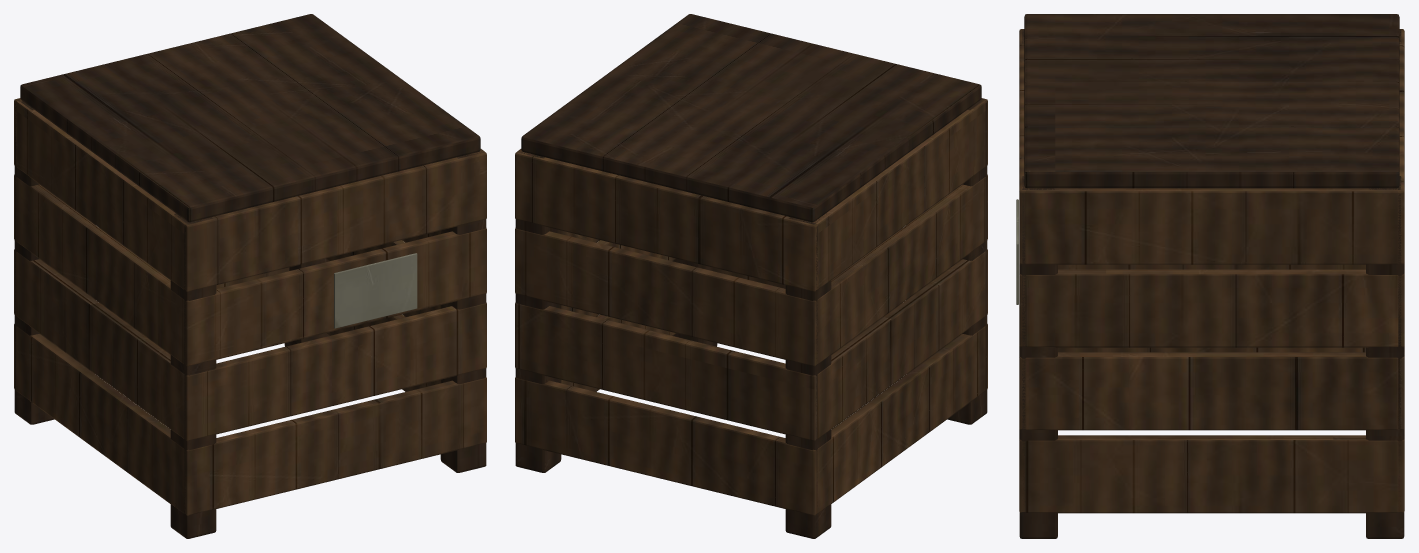
File: crate_wood.glb
3 renders of one model, left to right at view 1: azimuth 30°, elevation 25°; view 2: azimuth 150°, elevation 25°; view 3: azimuth 270°, elevation 25°, orthographic. The views are drawn at different scales.
Parts seen in each view (by area): view 1: body; view 2: body; view 3: body.
Boxes of the visible parts, x1,y1,x2,y2 form: body: (14, 14, 486, 538); body: (515, 14, 987, 538); body: (1016, 14, 1404, 538).
Bounding box in the file's own units: 0.801 × 0.84 × 0.807.
Materials: 3 (3 with a texture image).
